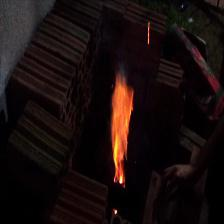fire: (105, 71, 139, 189)
